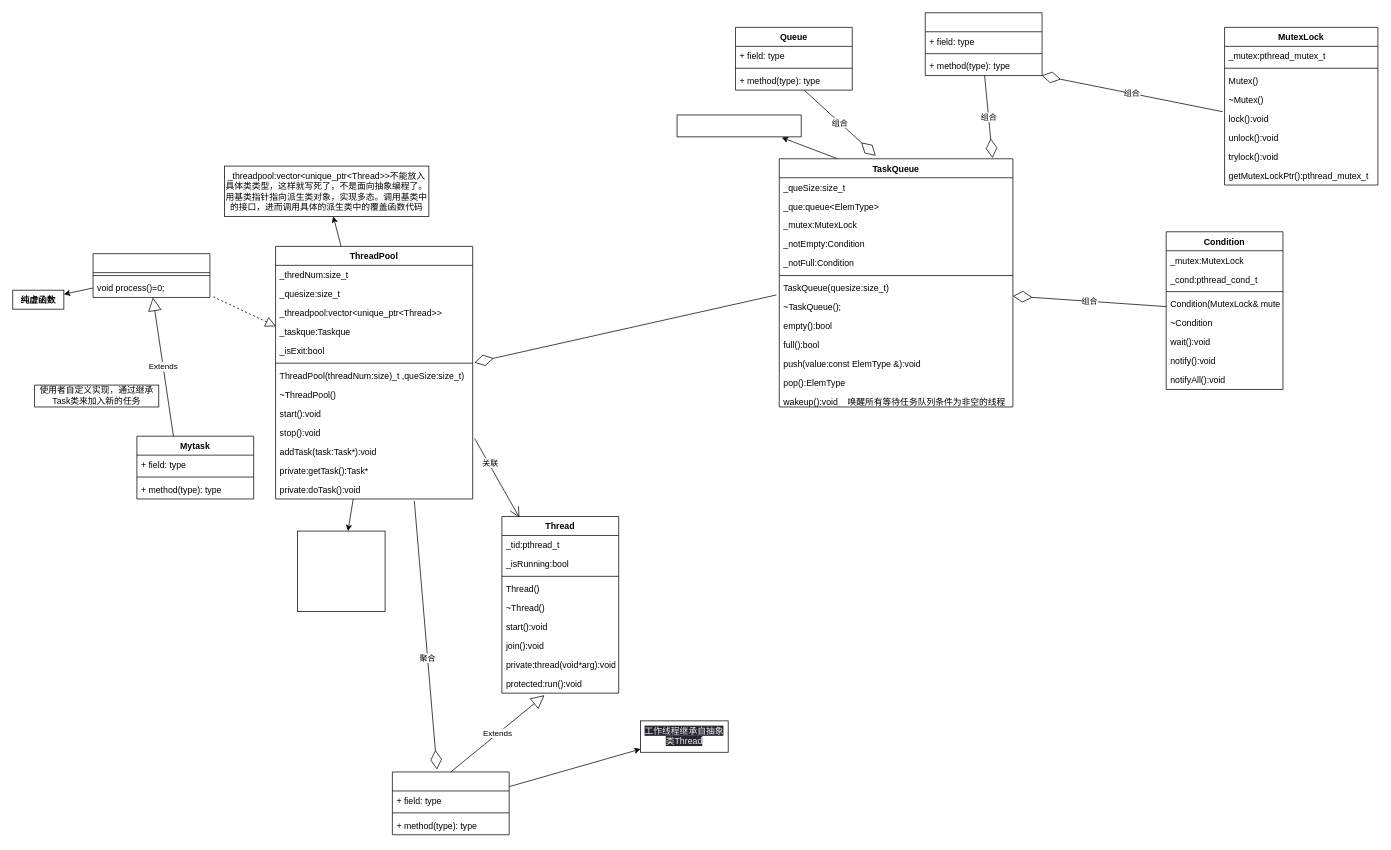
Image size: 1391x850. Some labels were removed from this diagram. Each missing label, with the box of its shape:
MutexLockGuard: (925, 12, 1042, 76)
Task: (92, 253, 210, 297)
using ElemType = Task*: (676, 114, 801, 137)
WorkThread: (392, 771, 509, 835)
公开的接口中也使用Task*而不是用具体类类型，就是为了面向抽象。后面用的时候，只需要继承这个暴露的接口类就能把代码交个线程池使用: (297, 530, 385, 611)
